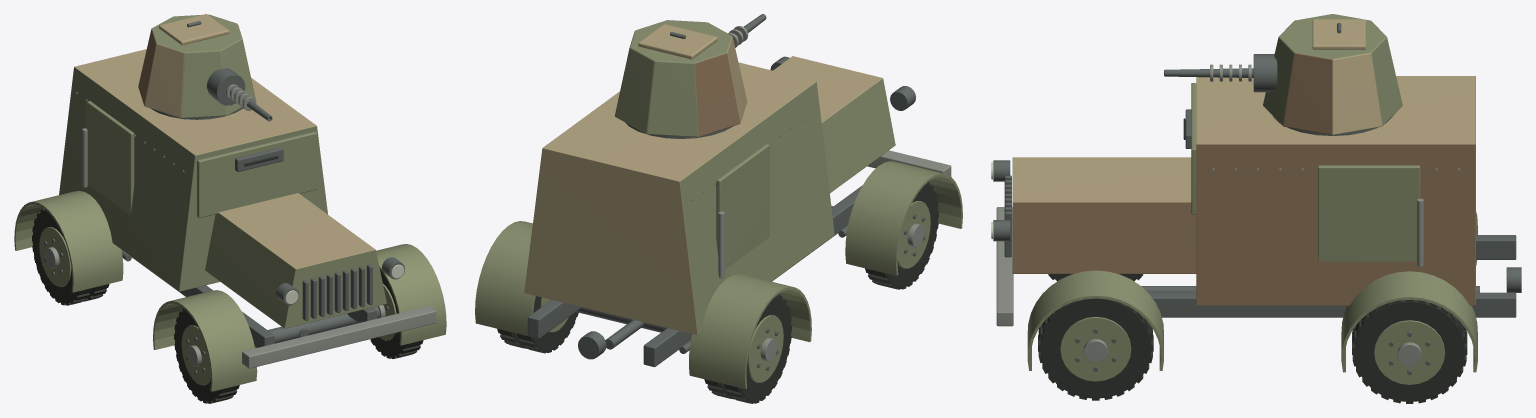
File: polish_wz34.glb
The picture shows the model from 3 angles, left to right: view 1: azimuth 30°, elevation 25°; view 2: azimuth 150°, elevation 25°; view 3: azimuth 270°, elevation 25°; orthographic projection. The views are drawn at different scales.
Parts seen in each view (by area): view 1: armored_bonnet, curved_mudguard, octagonal_turret, driver_visor, armor_rivet, tyre.001, tyre, turret_hatch, pressed_steel_rim.002, armored_ball_mount, pressed_steel_rim, tyre.003 (+1 smaller); view 2: armored_bonnet, curved_mudguard, octagonal_turret, driver_visor, tyre.001, tyre, turret_hatch, pressed_steel_rim.002, armor_rivet, tyre.004, pressed_steel_rim; view 3: armored_bonnet, curved_mudguard, octagonal_turret, driver_visor, tyre.004, tyre.003, pressed_steel_rim.004, pressed_steel_rim.006, armor_rivet, turret_hatch, armored_ball_mount, hub_cap.006 (+1 smaller).
Boxes of the visible parts, x1,y1,x2,y2 form: armored_bonnet: [59, 49, 386, 328]; curved_mudguard: [14, 101, 446, 391]; octagonal_turret: [138, 14, 255, 118]; driver_visor: [121, 147, 404, 348]; armor_rivet: [76, 92, 436, 368]; tyre.001: [32, 208, 109, 305]; tyre: [174, 308, 239, 403]; turret_hatch: [159, 14, 229, 45]; pressed_steel_rim.002: [39, 227, 71, 286]; armored_ball_mount: [206, 68, 272, 121]; pressed_steel_rim: [181, 325, 210, 385]; tyre.003: [370, 270, 423, 358]; armored_bonnet: [524, 56, 895, 335]; curved_mudguard: [475, 143, 962, 389]; octagonal_turret: [615, 20, 747, 137]; driver_visor: [527, 56, 915, 367]; tyre.001: [704, 294, 791, 403]; tyre: [865, 182, 938, 289]; turret_hatch: [638, 24, 717, 59]; pressed_steel_rim.002: [747, 315, 783, 382]; armor_rivet: [692, 109, 951, 278]; tyre.004: [497, 296, 578, 353]; pressed_steel_rim: [897, 201, 930, 268]; armored_bonnet: [1012, 76, 1475, 305]; curved_mudguard: [1027, 83, 1477, 372]; octagonal_turret: [1263, 14, 1402, 135]; driver_visor: [993, 109, 1521, 317]; tyre.004: [1352, 300, 1467, 403]; tyre.003: [1038, 298, 1153, 400]; pressed_steel_rim.004: [1060, 316, 1131, 381]; pressed_steel_rim.006: [1374, 320, 1445, 384]; armor_rivet: [996, 168, 1460, 326]; turret_hatch: [1312, 19, 1365, 49]; armored_ball_mount: [1164, 54, 1277, 92]; hub_cap.006: [1397, 342, 1421, 366].
Bounding box in the file's own units: 1.49 × 1.64 × 2.49.
